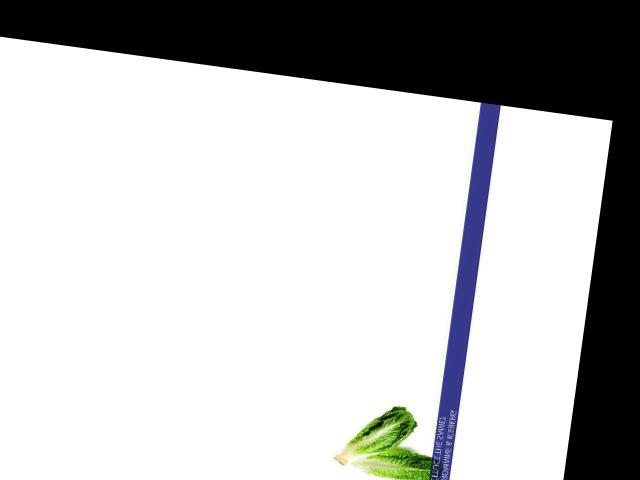lettuce: (333, 400, 425, 478)
